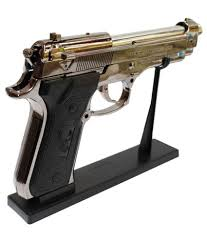gun: (3, 16, 204, 202)
